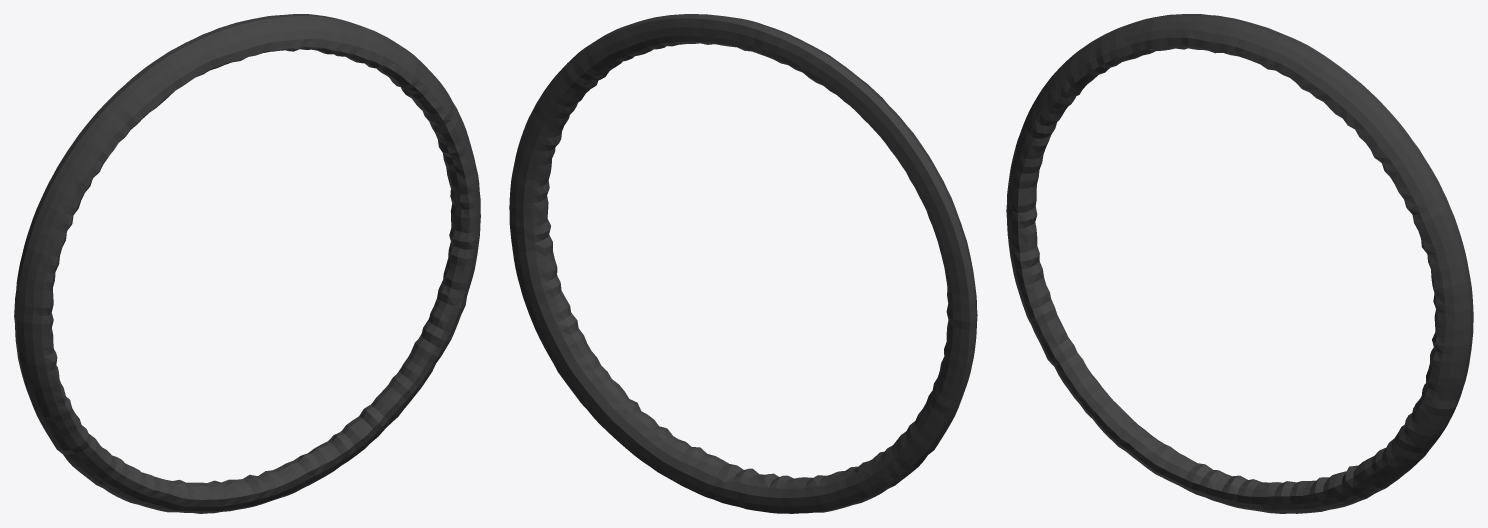
Rendered from Ciliary_body.glb.
3 views of the same model, side by side, from view 1: azimuth 30°, elevation 25°; view 2: azimuth 150°, elevation 25°; view 3: azimuth 330°, elevation 25° (orthographic).
Visible parts, largest first — view 1: Ciliary_body; view 2: Ciliary_body; view 3: Ciliary_body.
Boxes of the visible parts, x1,y1,x2,y2 form: Ciliary_body: (14,14,480,513); Ciliary_body: (509,14,977,513); Ciliary_body: (1006,14,1473,513).
Size of the model in its own units: 1.83 by 1.83 by 0.1326.
1 material, 1 textured.
